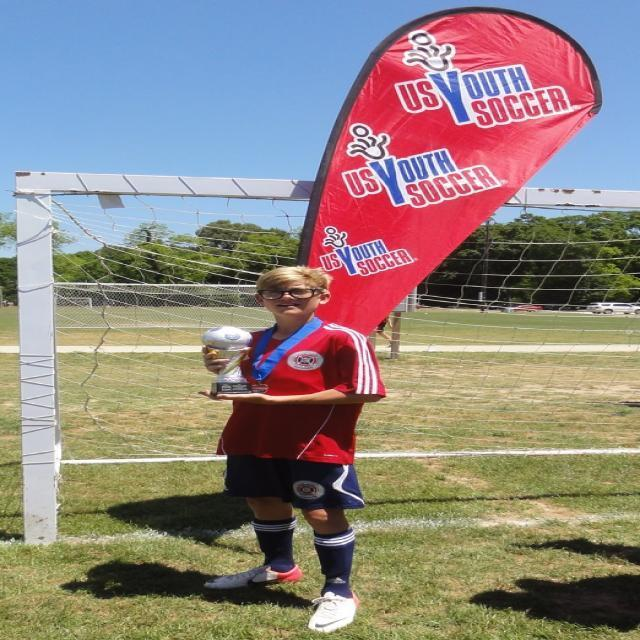football: (201, 325, 259, 361)
